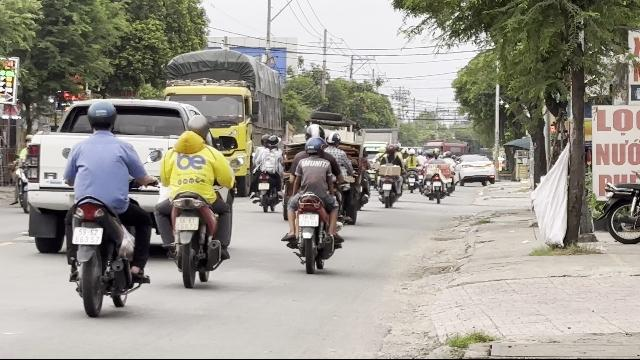helmet: (86, 99, 118, 133), (184, 114, 210, 138), (304, 136, 324, 156), (305, 124, 323, 138)
licenseplate: (73, 228, 101, 244), (176, 217, 198, 231), (298, 214, 318, 226)
motorcyclist: (60, 99, 154, 315), (154, 110, 236, 286), (280, 121, 346, 271)
